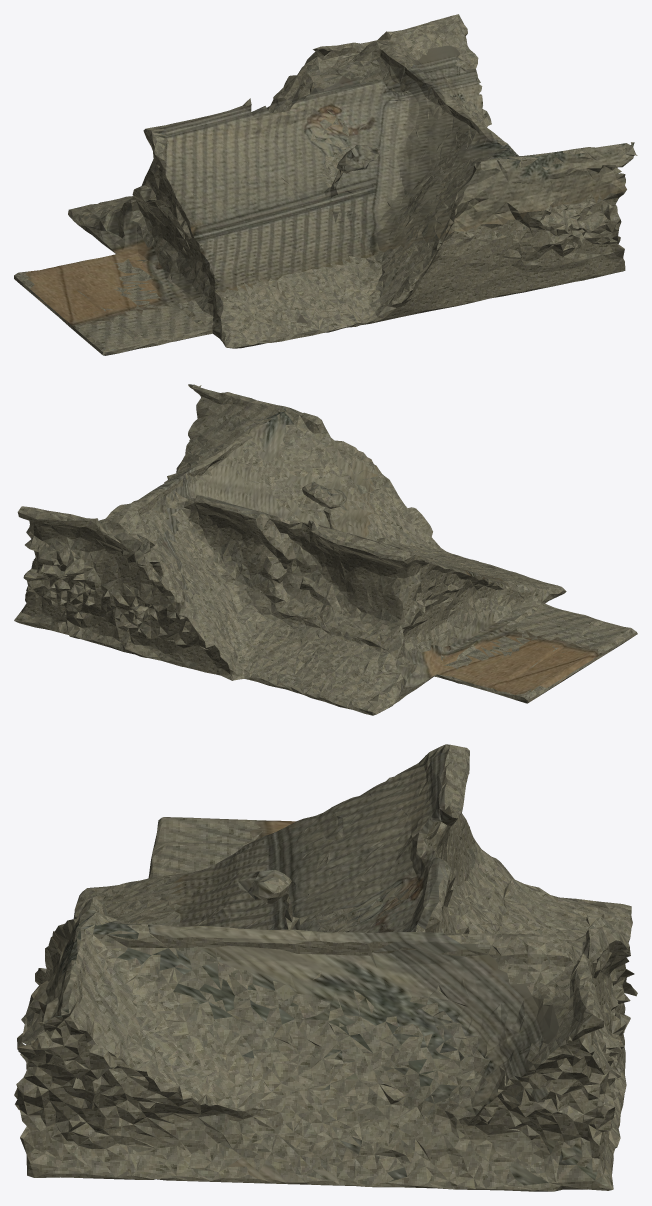
3 renders of one model, top to bottom at view 1: azimuth 30°, elevation 25°; view 2: azimuth 150°, elevation 25°; view 3: azimuth 270°, elevation 25°, orthographic. The views are drawn at different scales.
Parts seen in each view (by area): view 1: painted, roof, wall; view 2: roof, wall, painted; view 3: roof, painted, wall.
Part boxes in pixels (x1,y1,x2,y2): painted: (26,45,634,333); roof: (14,14,637,354); wall: (14,29,634,355); roof: (14,384,636,713); wall: (15,384,637,715); painted: (149,384,604,703); roof: (16,744,632,1190); painted: (18,745,615,1185); wall: (14,772,637,1191).
Size of the model in its own units: 13.34 by 3.3 by 9.45.
3 materials, 3 textured.
